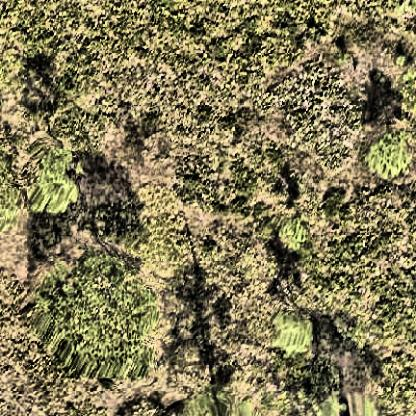tree-top: (40, 258, 153, 378), (21, 146, 81, 218), (364, 131, 409, 179), (182, 387, 255, 416), (270, 309, 314, 357), (276, 214, 314, 252)
